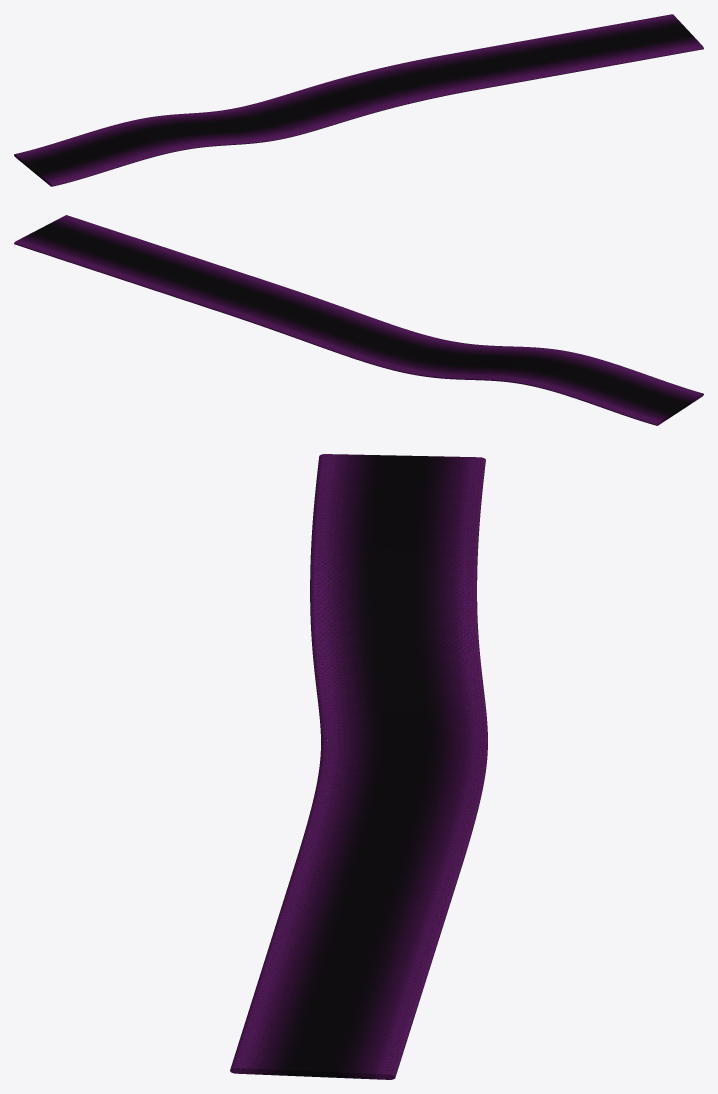
File: level-02-track-09.glb
3 views of the same model, one above another, from view 1: azimuth 30°, elevation 25°; view 2: azimuth 150°, elevation 25°; view 3: azimuth 270°, elevation 25° (orthographic). The views are drawn at different scales.
Visible parts, largest first — view 1: track-09; view 2: track-09; view 3: track-09.
Part boxes in pixels (x1,y1,x2,y2): track-09: [14, 14, 703, 186]; track-09: [14, 215, 703, 425]; track-09: [230, 454, 487, 1079].
Bounding box in the file's own units: 96.32 × 2.68 × 16.84.
2 materials, 2 textured.
